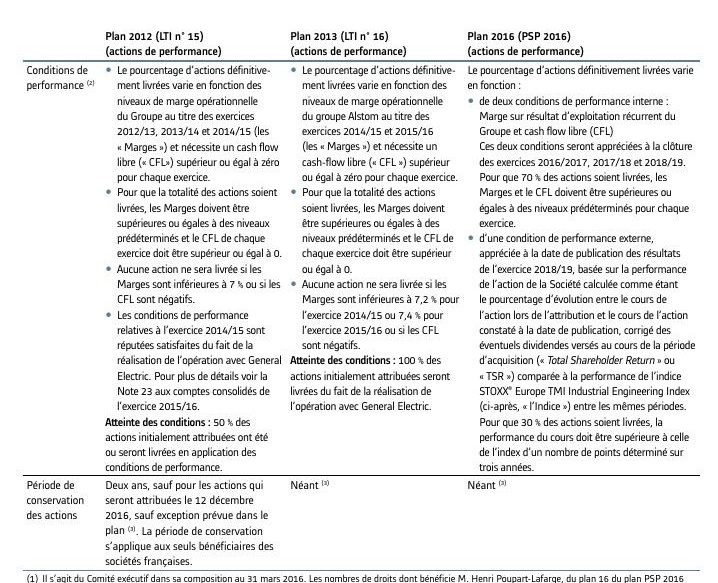table: (0, 0, 718, 583)
